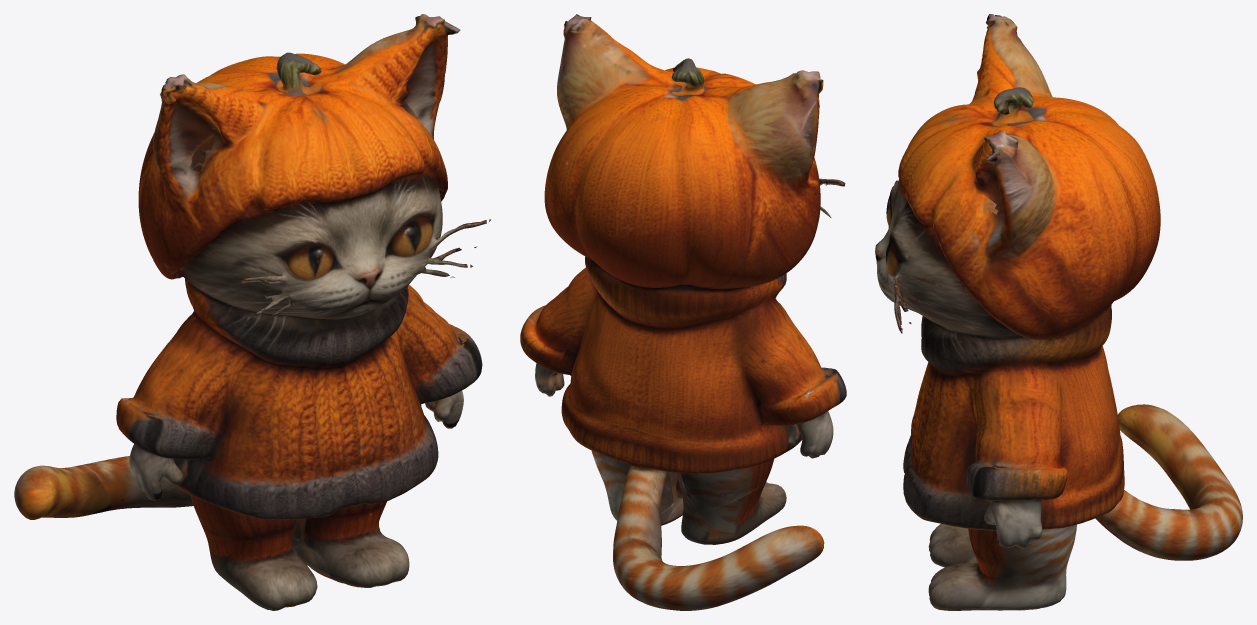
File: cute_cat_with_pumpkin_outfit.glb
3 renders of one model, left to right at view 1: azimuth 30°, elevation 25°; view 2: azimuth 150°, elevation 25°; view 3: azimuth 270°, elevation 25°, orthographic. The views are drawn at different scales.
Bounding box in the file's own units: 1.54 × 1.99 × 1.31.
1 material, 1 textured.
